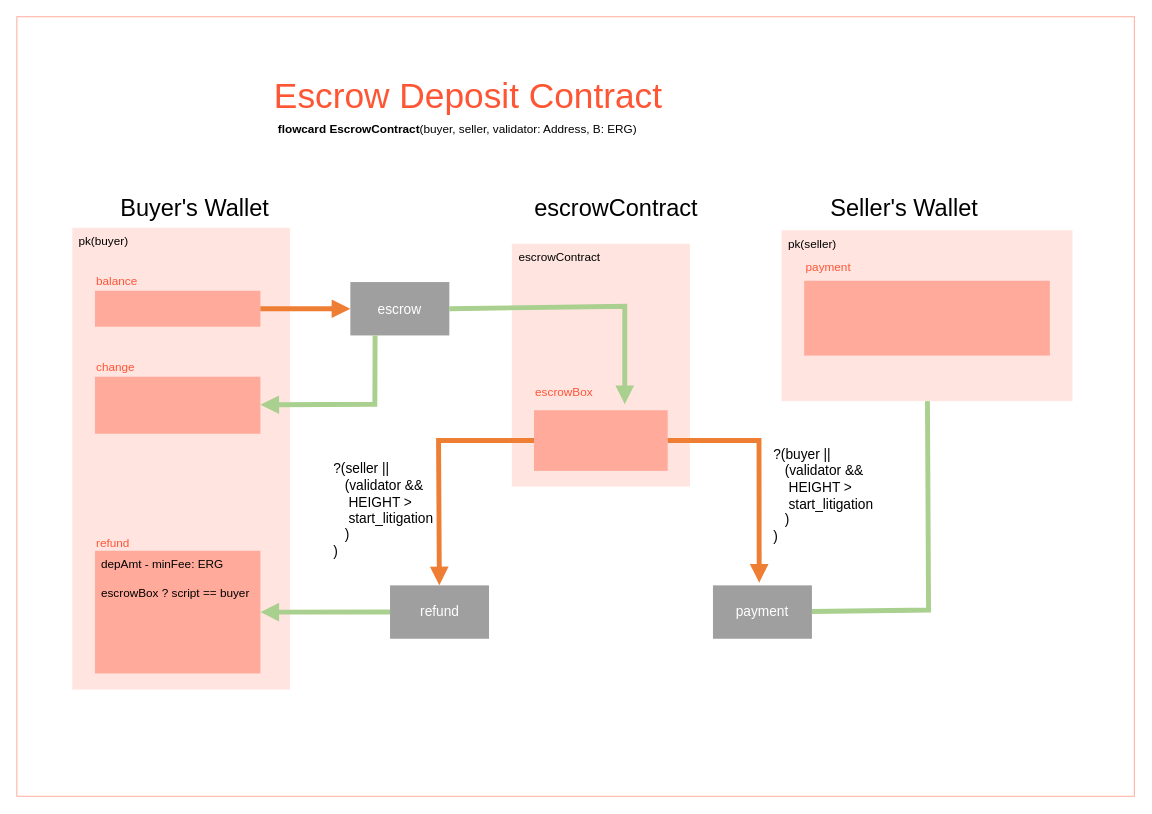
This 1152x814 diagram has some shape labels left out. Each missing label, with the centre of its shape:
B - depAmt - minFee: ERG: point 177,404
B: ERG: point 177,308
depAmt - minFee: ERG escrowBox ? script == seller: point 926,317
depAmt: ERG: point 600,440
